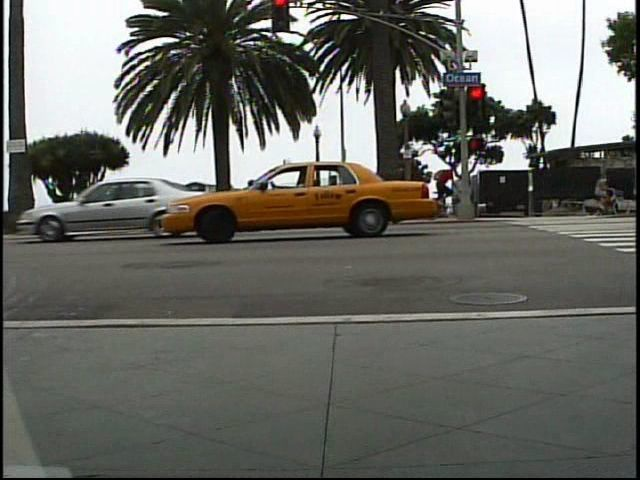person: (430, 157, 463, 216), (585, 167, 617, 215)
